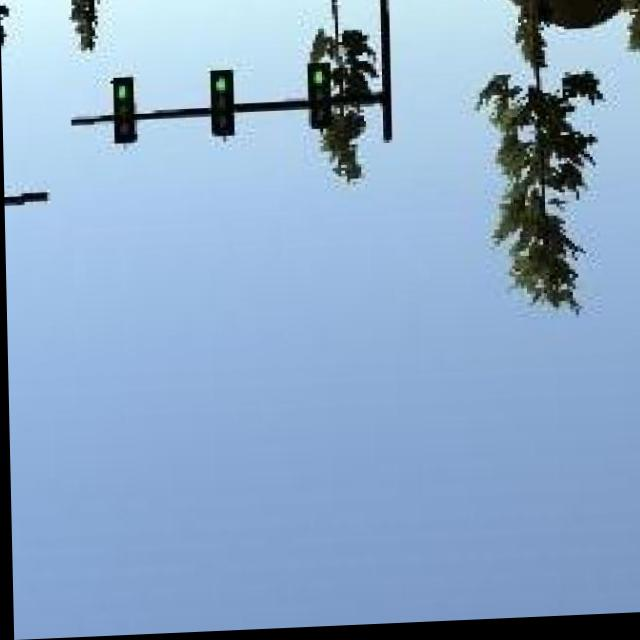green light: (307, 65, 334, 132), (210, 70, 235, 139), (110, 77, 132, 144)
